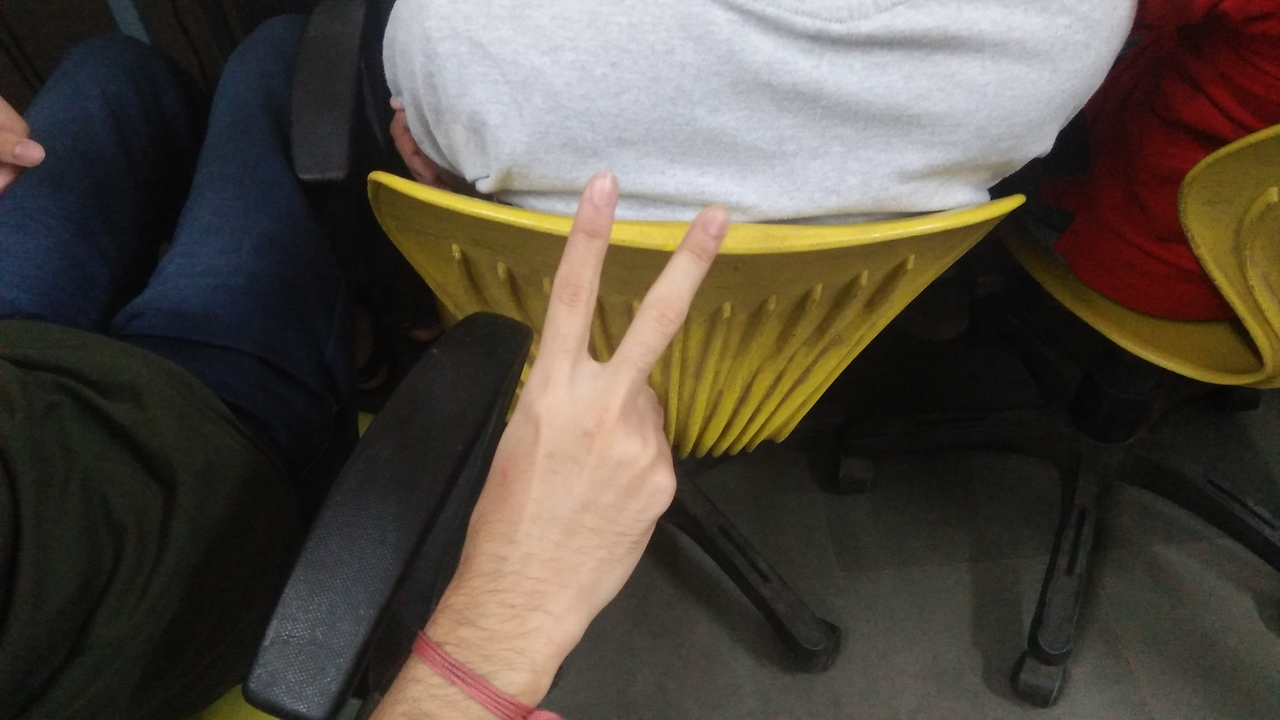fingertip: (684, 194, 742, 244), (570, 164, 624, 216)
